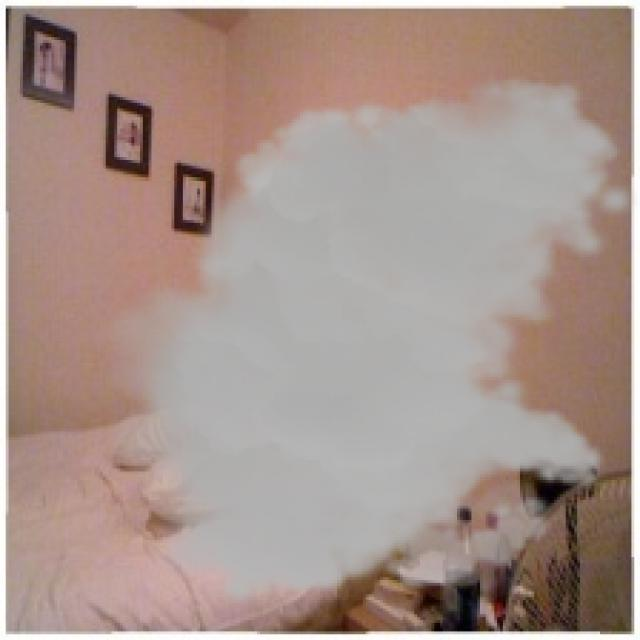smoke: (92, 74, 637, 612)
